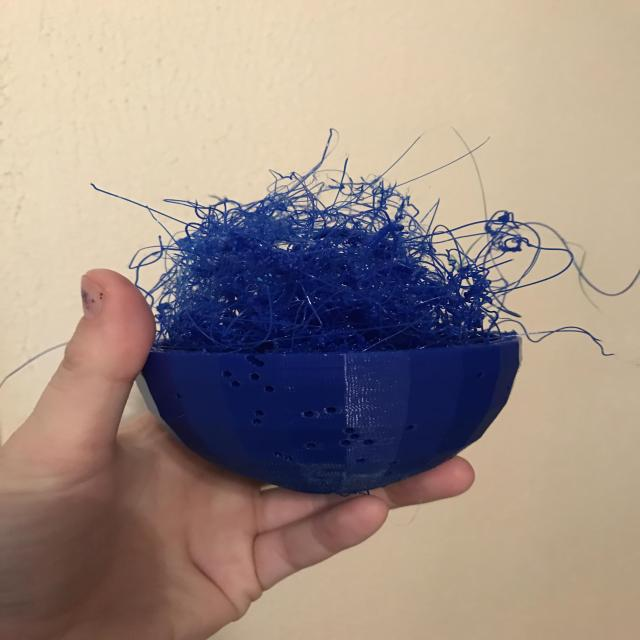spaghetti: (87, 128, 634, 366)
